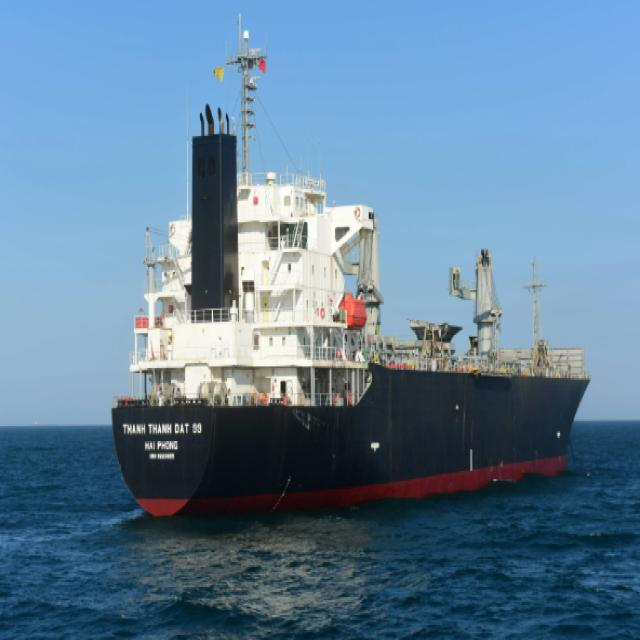cargoship: (106, 8, 614, 526)
